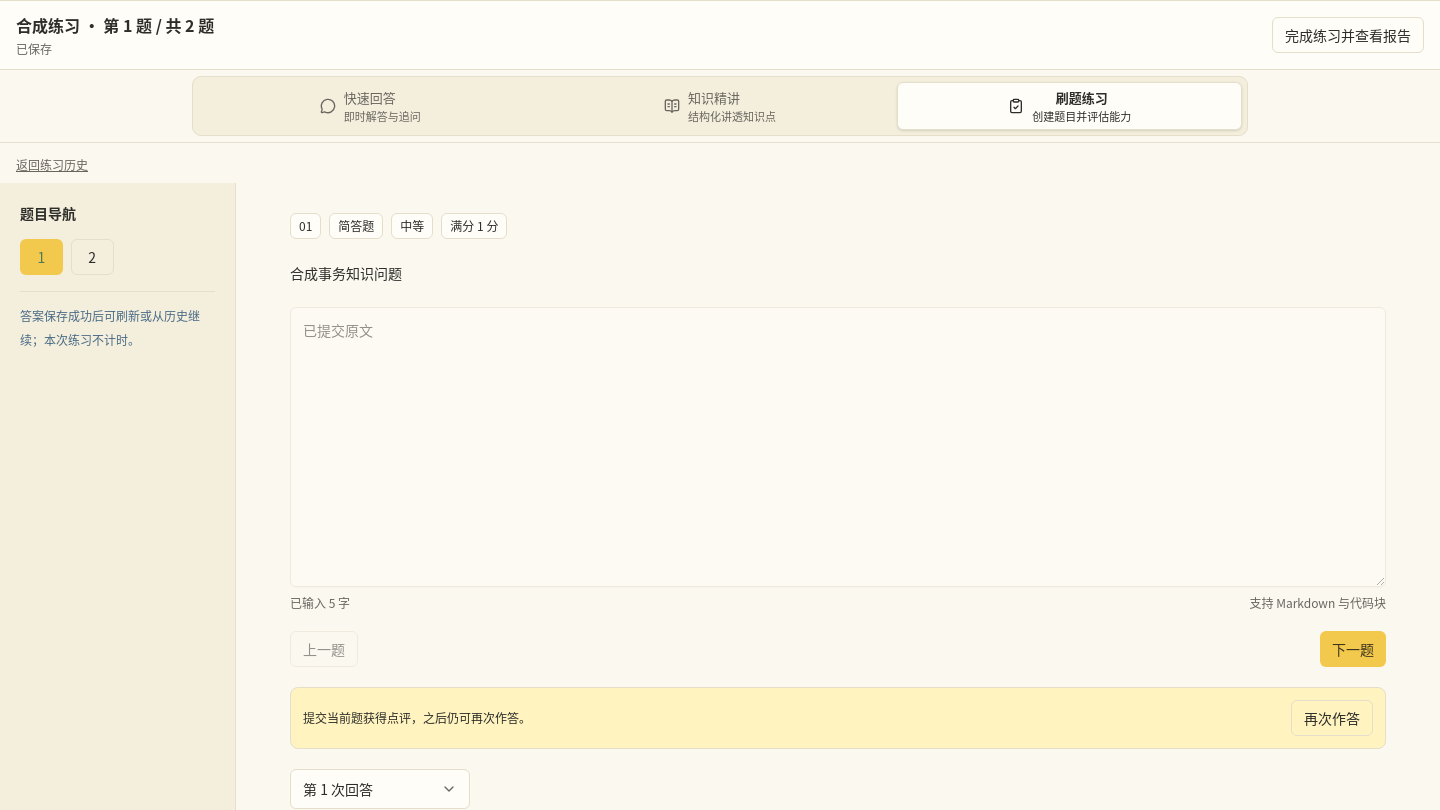
Test: 练习保存与提交边界 › 已提交文本题可以切到下一题，按真实版本保存当前位置
Expected: the text box named "简答答案" is disabled, 290,307 -> 1386,587
Step 1. Click the button named "第2题" → (92, 257), box 71,239 -> 114,275
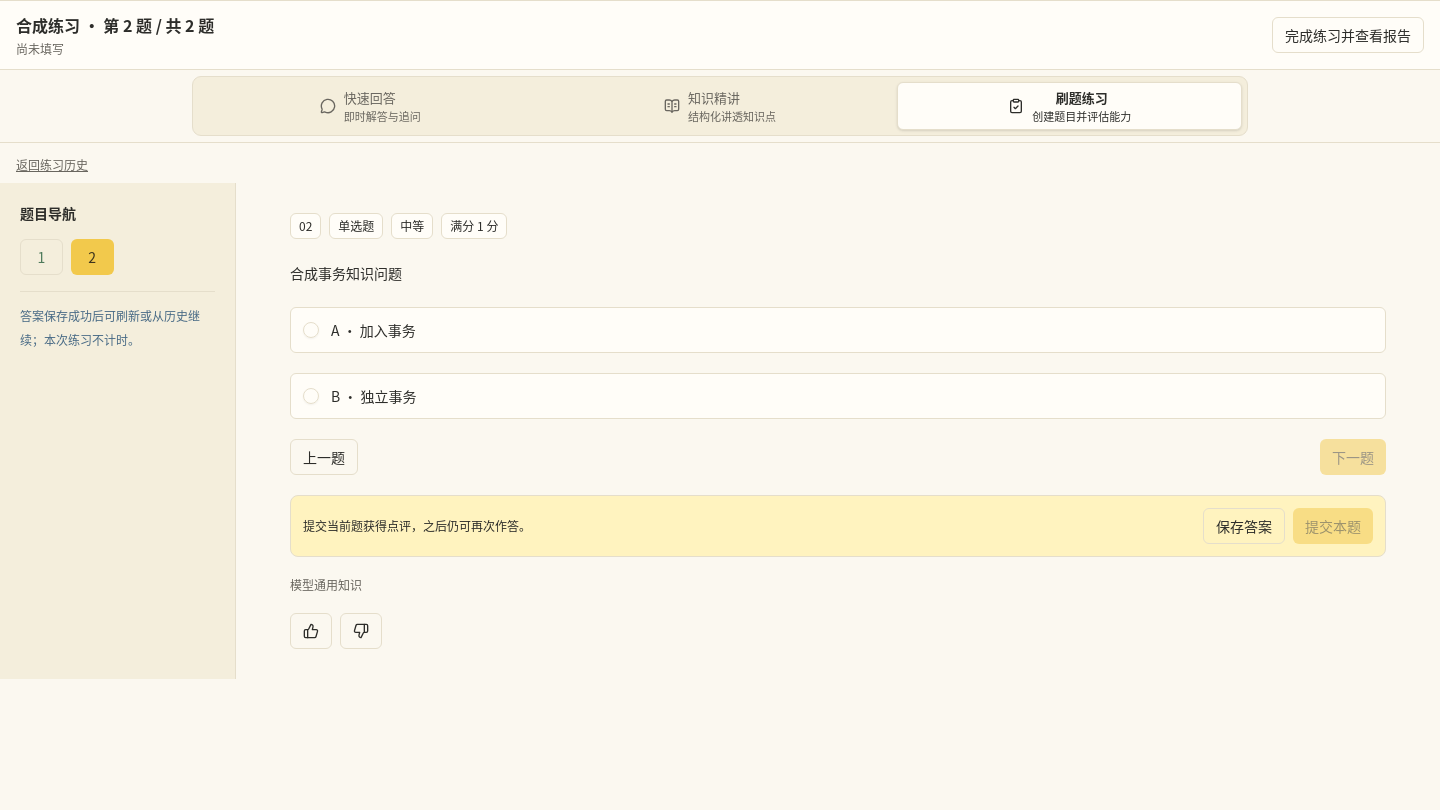
Now the heading "合成练习 · 第 2 题 / 共 2 题" is shown, box 16,13 -> 214,37
Now the number of radio buttons is 2, box 303,322 -> 319,338; 303,388 -> 319,404
Now the message named "答案保存状态" reads "尚未填写", box 16,40 -> 64,57
